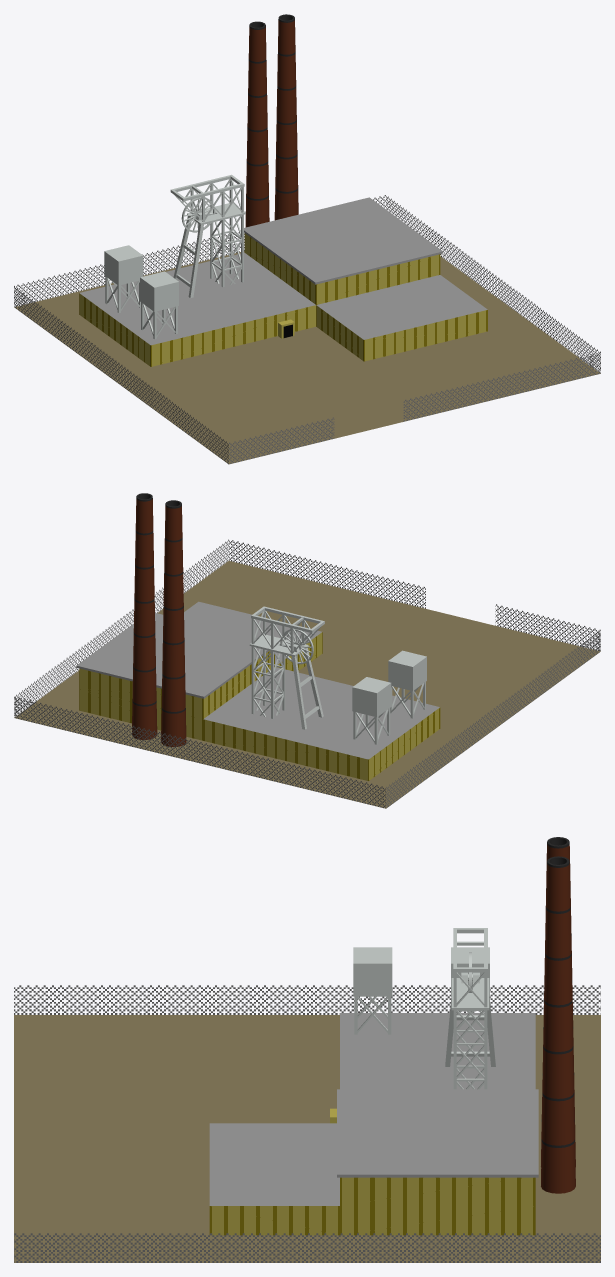
Rendered from GoldMine.fbx.
3 renders of one model, top to bottom at view 1: azimuth 30°, elevation 25°; view 2: azimuth 150°, elevation 25°; view 3: azimuth 270°, elevation 25°, orthographic. The views are drawn at different scales.
Parts seen in each view (by area): view 1: GoldMine; view 2: GoldMine; view 3: GoldMine.
Part boxes in pixels (left/top/right/bottom): GoldMine: left=14, top=14, right=600, bottom=464; GoldMine: left=14, top=493, right=600, bottom=808; GoldMine: left=14, top=837, right=600, bottom=1262.
Size of the model in its own units: 1800 by 1101 by 1800.
